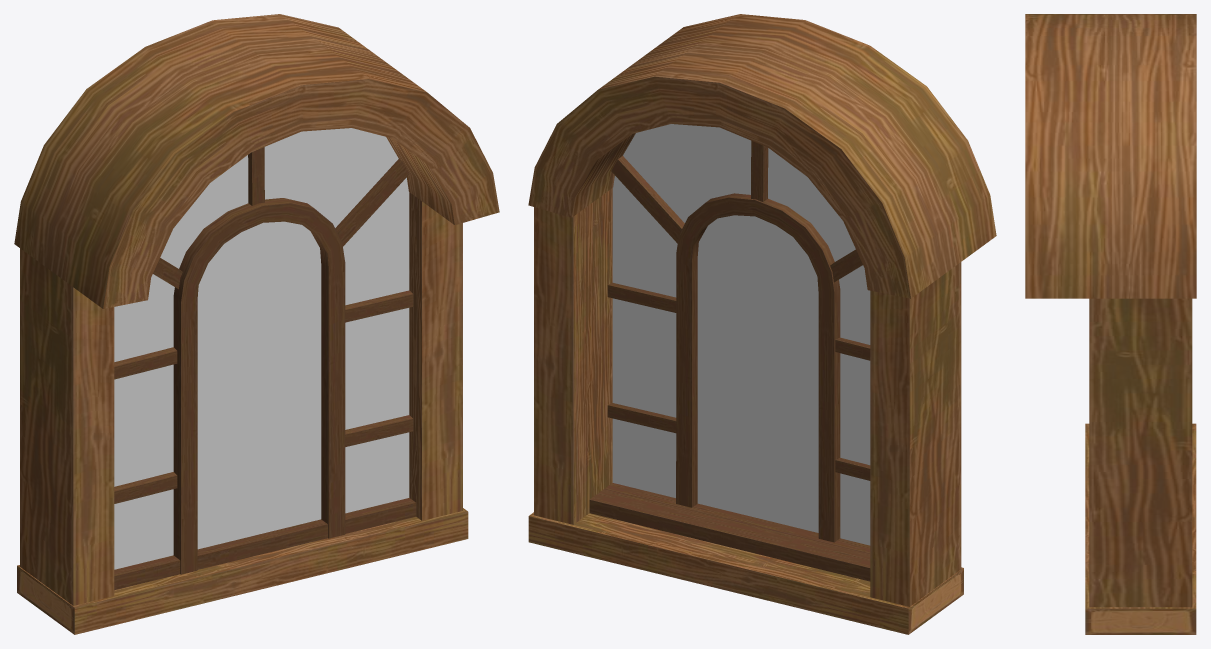
The model's file is window-qm-windowwideround1.glb.
The picture shows the model from 3 angles, left to right: view 1: azimuth 30°, elevation 25°; view 2: azimuth 150°, elevation 25°; view 3: azimuth 270°, elevation 25°; orthographic projection. The views are drawn at different scales.
Visible parts, largest first — view 1: Cube_147; view 2: Cube_147; view 3: Cube_147.
Boxes of the visible parts, x1,y1,x2,y2 form: Cube_147: (14,14,499,634); Cube_147: (528,14,996,634); Cube_147: (1025,14,1196,634).
Size of the model in its own units: 1.36 by 1.73 by 0.5296.
Materials: 2 (1 with a texture image).
